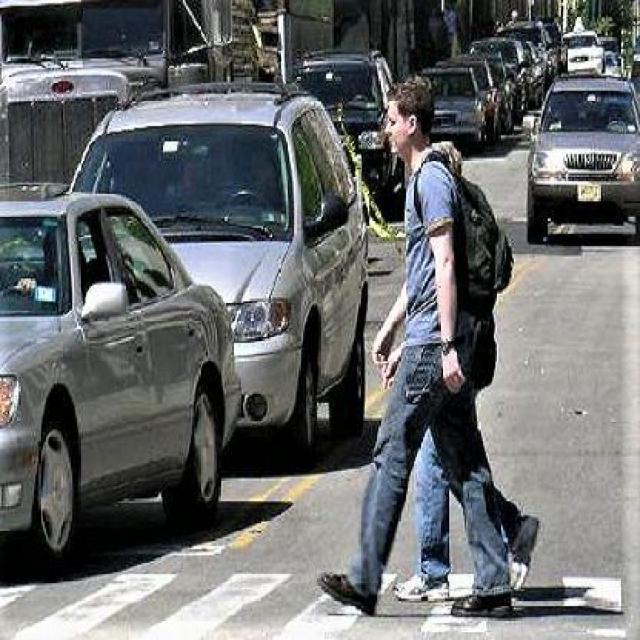Person: (312, 79, 511, 621)
